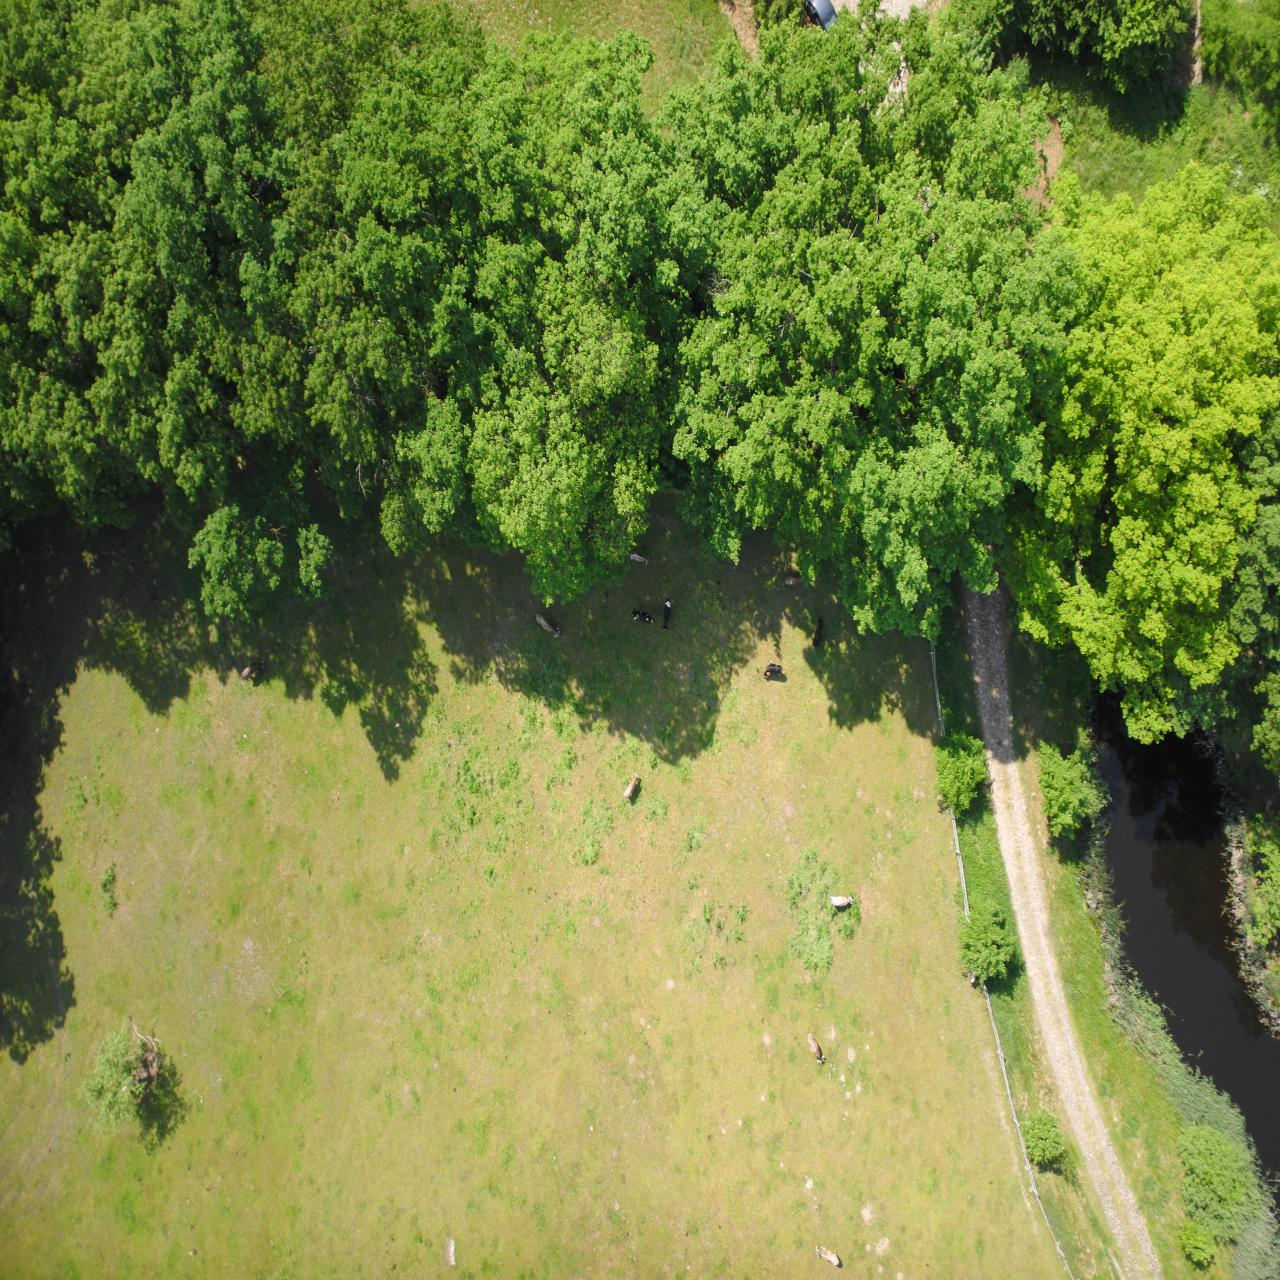cow: (454, 215, 474, 247), (720, 642, 744, 667), (441, 14, 464, 34), (640, 481, 655, 508), (425, 372, 449, 386), (626, 655, 648, 669), (498, 602, 517, 619), (457, 632, 467, 663), (610, 648, 618, 681), (631, 715, 651, 728), (474, 694, 495, 703)
